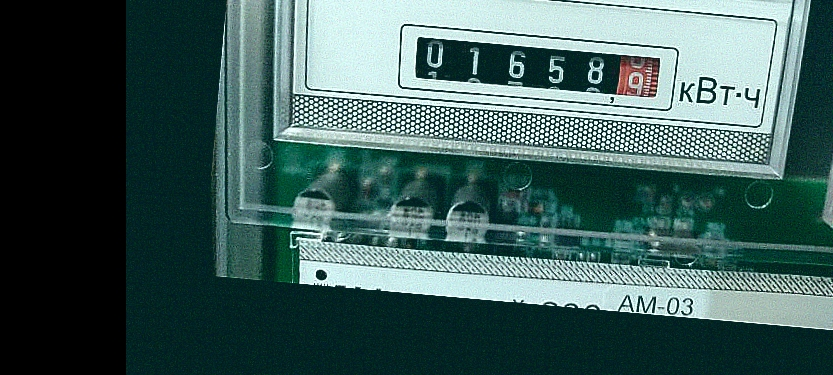0: (423, 36, 447, 69)
1: (467, 44, 482, 76)
5: (546, 51, 568, 85)
6: (506, 47, 529, 80)
8: (585, 53, 607, 86)
9: (624, 68, 645, 96)
screen: (388, 13, 685, 117)
